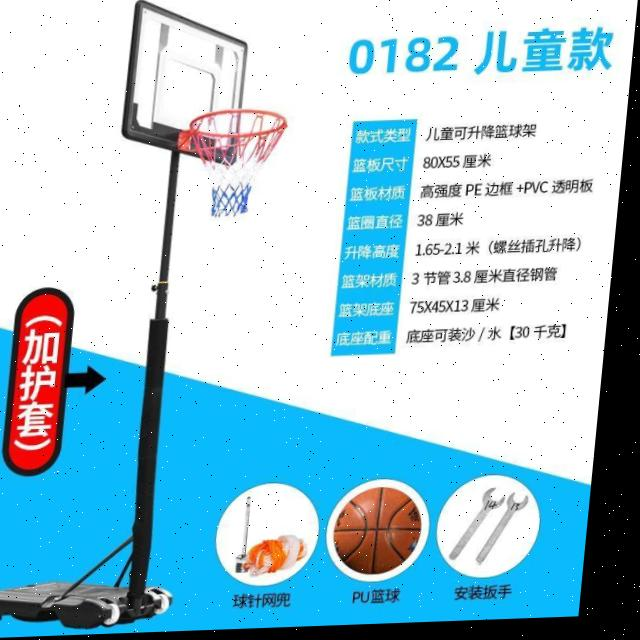basketball: (327, 485, 426, 577)
hoop: (181, 108, 290, 220)
